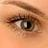eye: (21, 20, 35, 31)
